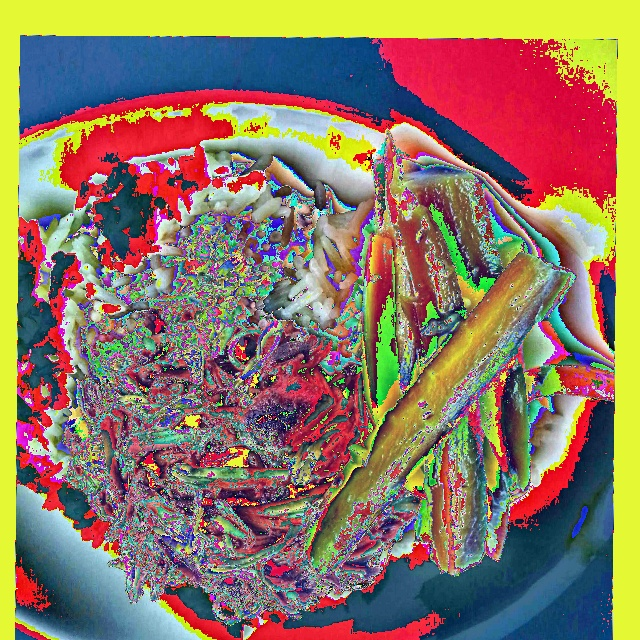background: (17, 129, 614, 625)
